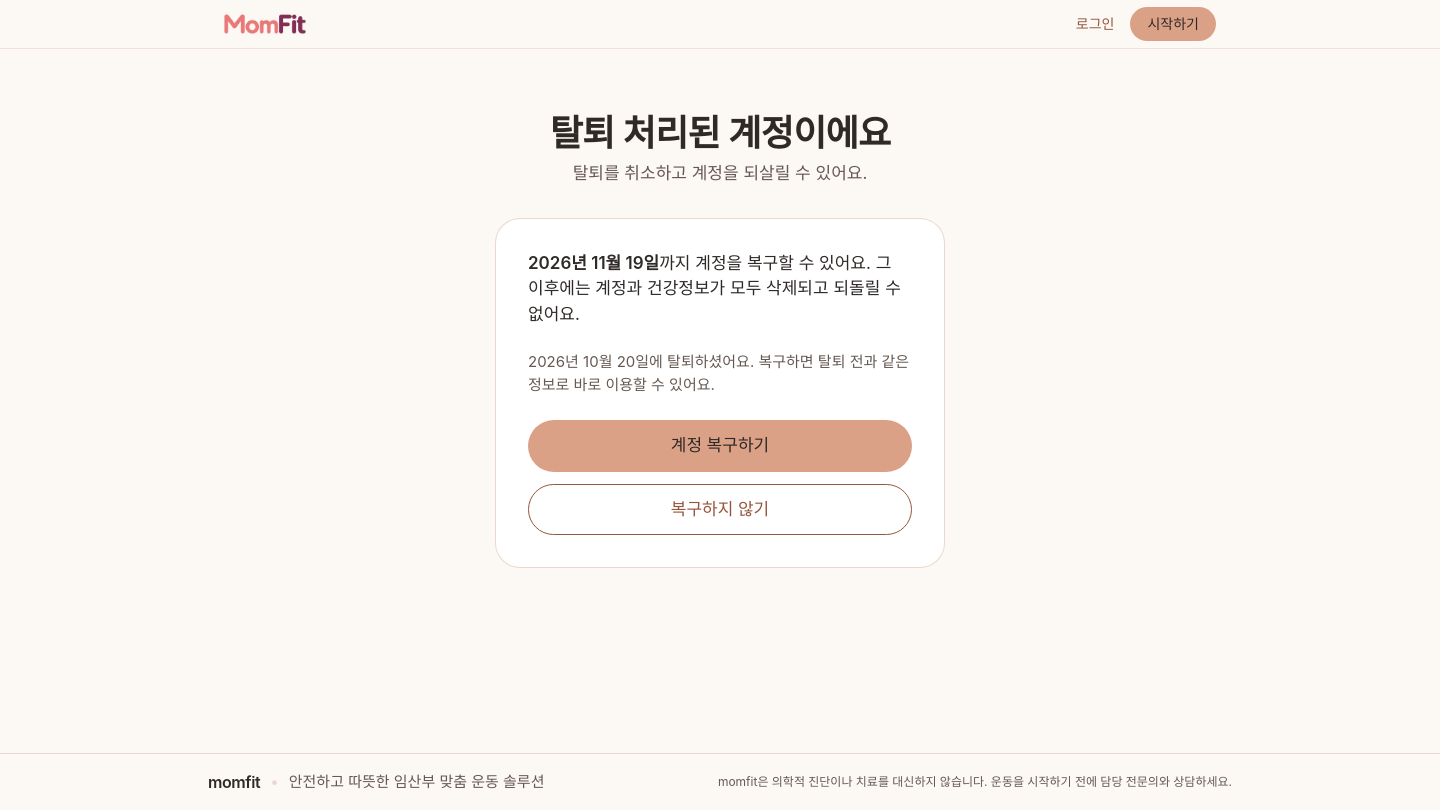
Test: 탈퇴 계정 복구 화면 › 복구 중에는 버튼을 잠근다
expect the text "2026년 11월 19일" is shown: met, box [528,252,659,272]
What coordinates should you click on to do the following:
click the button "계정 복구하기"
I would click on:
 (720, 446)
Its box is [528,420,912,472].
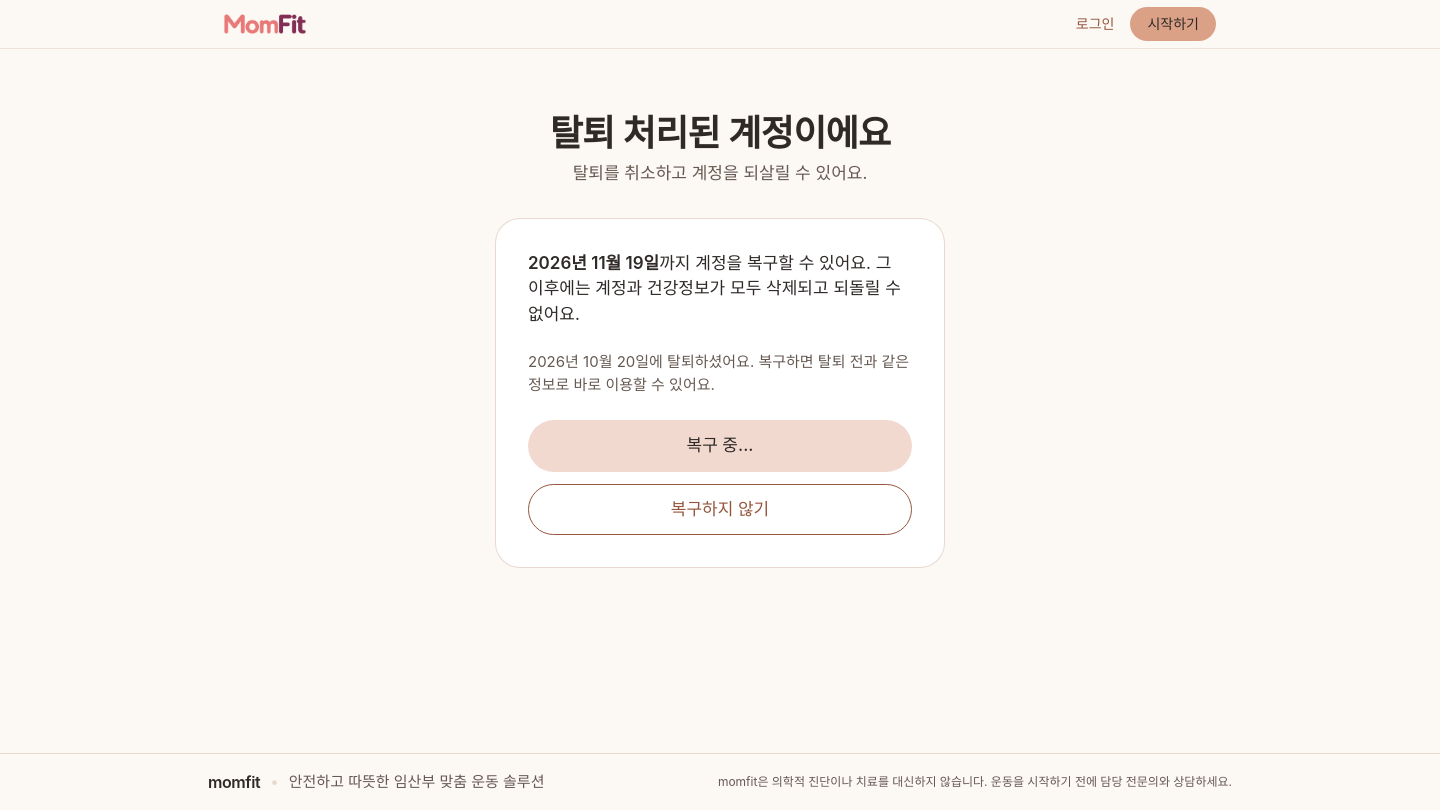
expect the button "복구 중..." is disabled: met, box [528,420,912,472]
